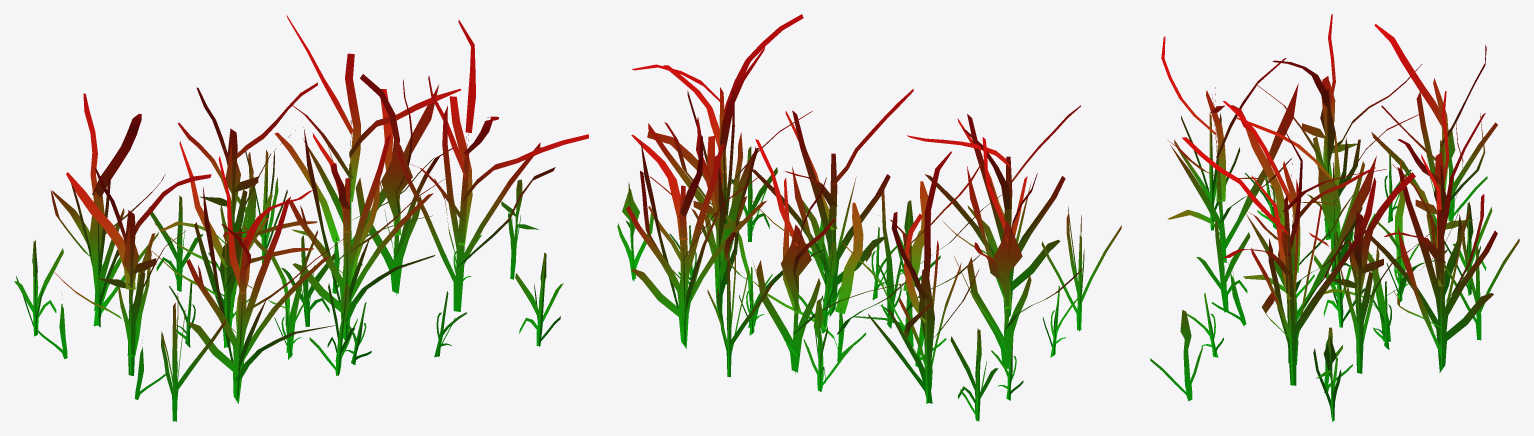
Rendered from Var1_LOD0.fbx.
3 views of the same model, side by side, from view 1: azimuth 30°, elevation 25°; view 2: azimuth 150°, elevation 25°; view 3: azimuth 270°, elevation 25° (orthographic). The views are drawn at different scales.
Visible parts, largest first — view 1: _8c70_Var1_LOD0; view 2: _8c70_Var1_LOD0; view 3: _8c70_Var1_LOD0.
Part boxes in pixels (x1,y1,x2,y2): _8c70_Var1_LOD0: (14, 15, 588, 421); _8c70_Var1_LOD0: (617, 14, 1121, 421); _8c70_Var1_LOD0: (1150, 14, 1519, 421).
Size of the model in its own units: 43.11 by 21.83 by 29.06.
